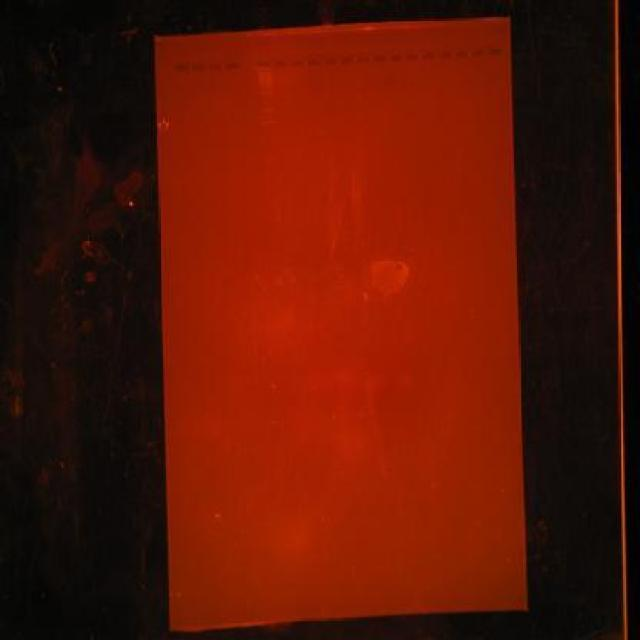L: (166, 41, 508, 76)
M: (254, 78, 280, 170)
P: (260, 119, 276, 128), (258, 105, 274, 114), (260, 153, 276, 162), (258, 90, 274, 98)
Pc: (274, 54, 290, 70), (469, 44, 486, 59), (437, 45, 452, 61), (338, 51, 354, 66), (173, 59, 190, 73), (255, 57, 272, 71), (453, 46, 470, 60), (420, 47, 437, 61), (486, 43, 502, 57), (404, 48, 420, 62), (388, 49, 404, 63), (371, 50, 387, 64), (323, 52, 339, 66), (306, 53, 322, 67), (290, 54, 306, 68), (191, 59, 206, 73), (224, 58, 240, 71), (356, 50, 370, 64), (208, 58, 223, 71)
